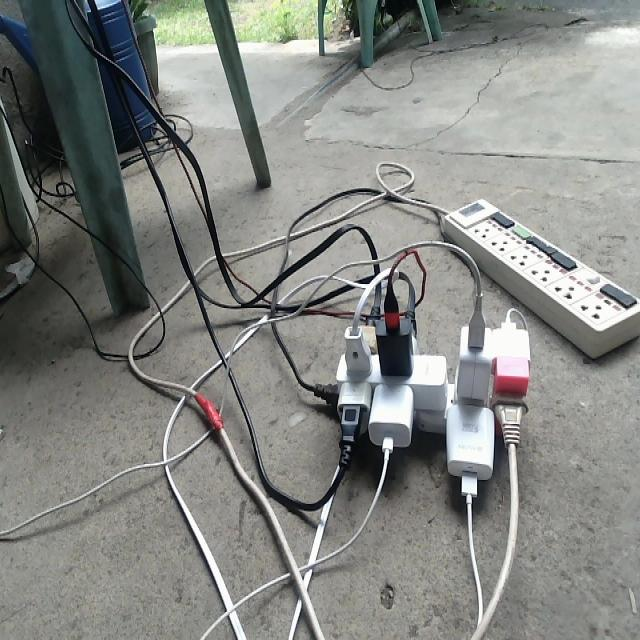-: (312, 283, 531, 504)
